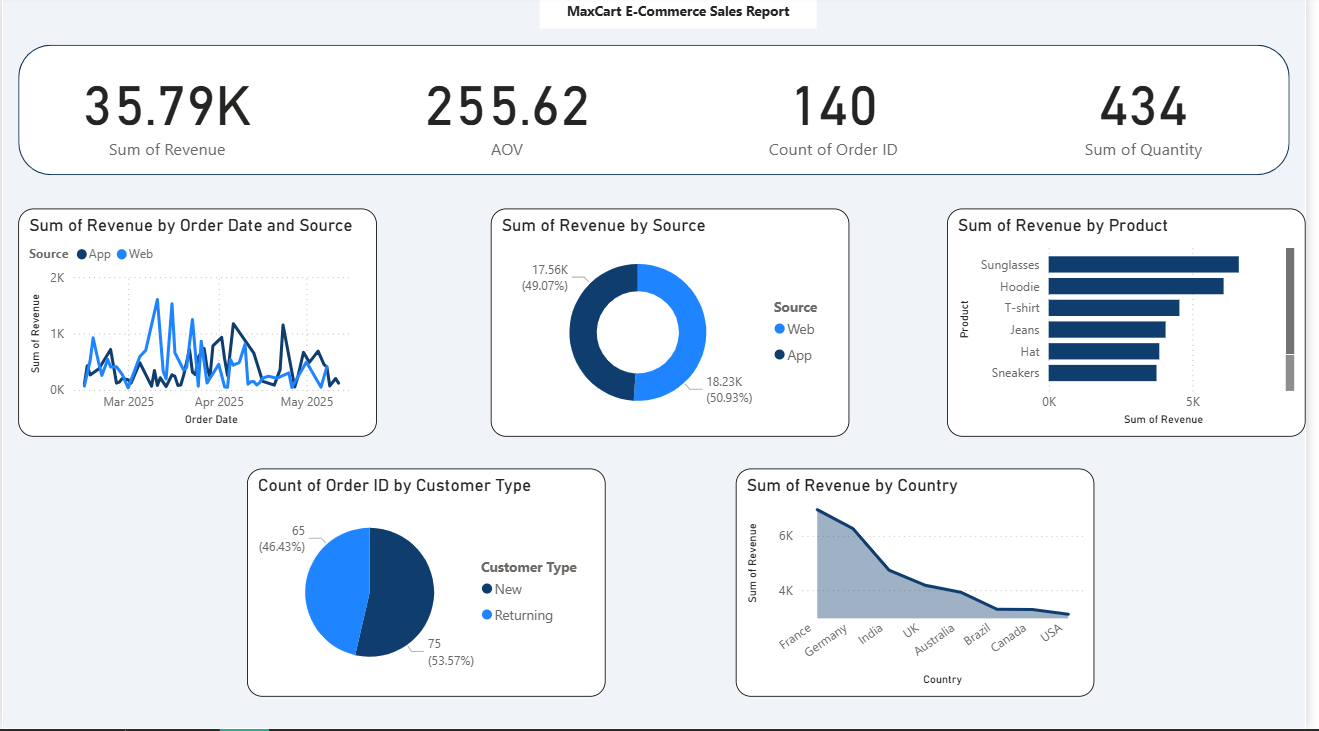

The dashboard page shown, as its layout file describes it:
{"tool":"powerbi","page":{"name":"Page 1","canvas":[1280,720],"ordinal":0},"visuals":[{"type":"shape","box":[16,48,1248,128],"z":0},{"type":"card","fields":{"Values":["Sum(Sheet1.Revenue)"]},"box":[50,55,224,112],"z":1000},{"type":"card","fields":{"Values":["Count(Sheet1.Order ID)"]},"box":[704,55,224,112],"z":2000},{"type":"card","fields":{"Values":["Sum(Sheet1.Quantity)"]},"box":[1008,55,224,112],"z":3000},{"type":"card","fields":{"Values":["Sheet1.AOV"]},"box":[384,55,224,112],"z":4000},{"type":"lineChart","fields":{"Category":["Sheet1.Order Date"],"Series":["Sheet1.Source"],"Y":["Sum(Sheet1.Revenue)"]},"box":[16,208,352,224],"z":5000},{"type":"barChart","fields":{"Category":["Sheet1.Product"],"Y":["Sum(Sheet1.Revenue)"]},"box":[928,208,352,224],"z":6000},{"type":"areaChart","fields":{"Category":["Sheet1.Country"],"Y":["Sum(Sheet1.Revenue)"]},"box":[720,464,352,224],"z":7000},{"type":"pieChart","fields":{"Category":["Sheet1.Customer Type"],"Y":["CountNonNull(Sheet1.Order ID)"]},"box":[240,464,352,224],"z":8000},{"type":"donutChart","fields":{"Category":["Sheet1.Source"],"Y":["Sum(Sheet1.Revenue)"]},"box":[480,208,352,224],"z":9000},{"type":"textbox","box":[528,0,272,32],"z":10000}]}

Visuals, with their boxes in screenshot pixels (x1, y1, x2, y2), scaled from the page's 1280x720 canvas onto the 1319x731 screenshot:
shape: 16,49,1303,179
card - Sum(Sheet1.Revenue): 52,56,282,170
card - Count(Sheet1.Order ID): 725,56,956,170
card - Sum(Sheet1.Quantity): 1039,56,1270,170
card - Sheet1.AOV: 396,56,627,170
lineChart - Sheet1.Order Date x Sheet1.Source: 16,211,379,439
barChart - Sheet1.Product x Sum(Sheet1.Revenue): 956,211,1318,439
areaChart - Sheet1.Country x Sum(Sheet1.Revenue): 742,471,1105,699
pieChart - Sheet1.Customer Type x CountNonNull(Sheet1.Order ID): 247,471,610,699
donutChart - Sheet1.Source x Sum(Sheet1.Revenue): 495,211,857,439
textbox: 544,0,824,32
